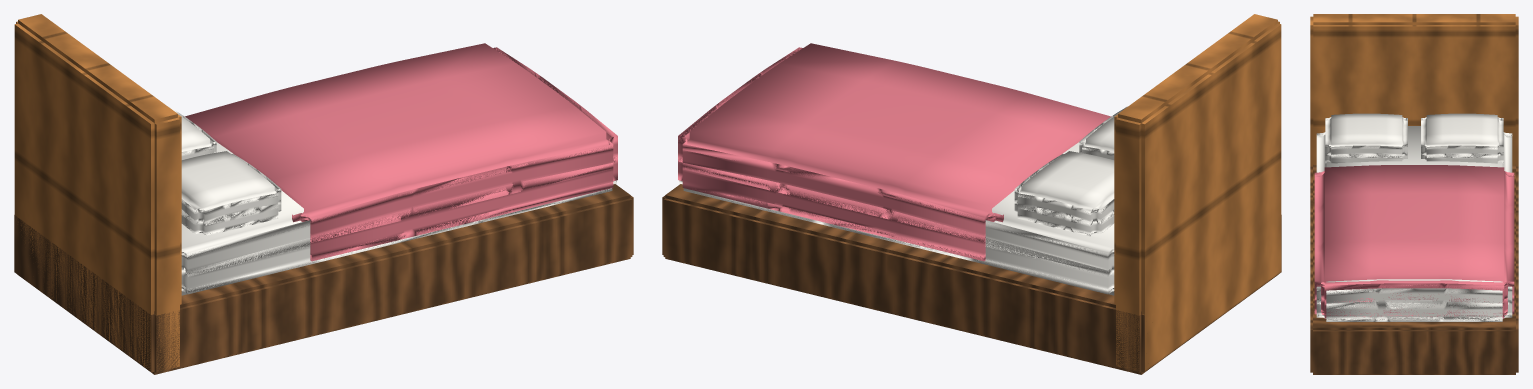
The model's file is furn_bed_single.glb.
3 renders of one model, left to right at view 1: azimuth 30°, elevation 25°; view 2: azimuth 150°, elevation 25°; view 3: azimuth 270°, elevation 25°, orthographic. The views are drawn at different scales.
Parts seen in each view (by area): view 1: furn_bed_single; view 2: furn_bed_single; view 3: furn_bed_single.
Part boxes in pixels (x1,y1,x2,y2): furn_bed_single: (14, 14, 633, 374); furn_bed_single: (662, 14, 1281, 374); furn_bed_single: (1310, 14, 1518, 374).
Size of the model in its own units: 1.9 by 0.96 by 0.96.
4 materials, 2 textured.
